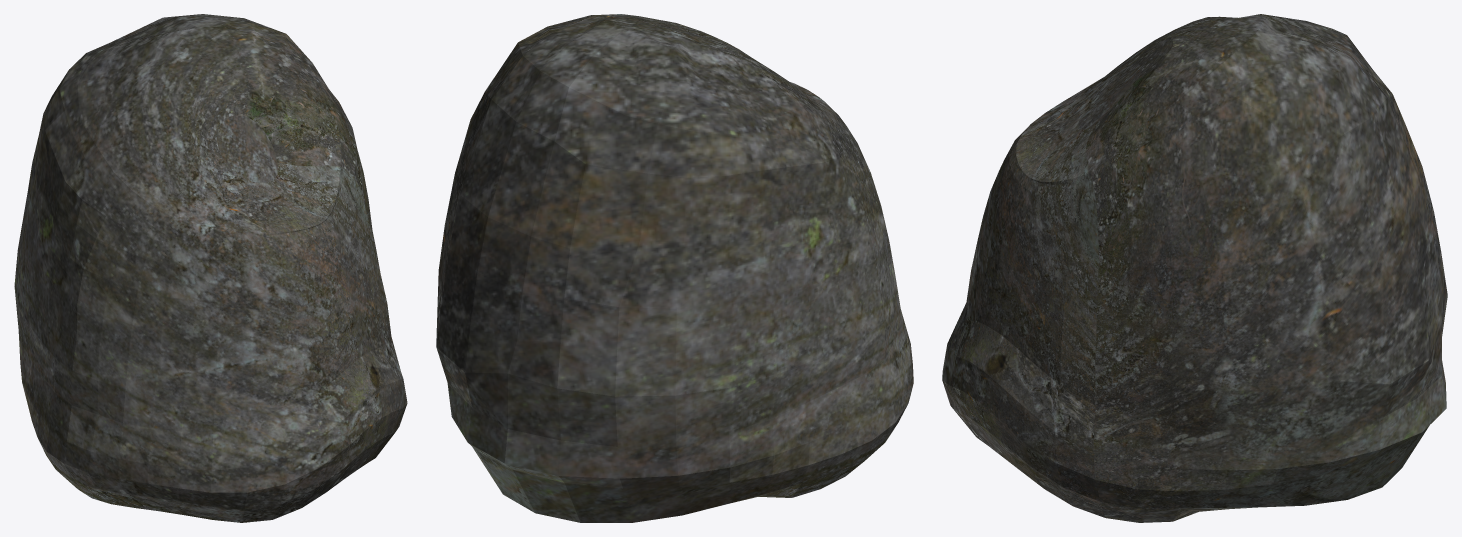
Rendered from Pedra.fbx.
The picture shows the model from 3 angles, left to right: view 1: azimuth 30°, elevation 25°; view 2: azimuth 150°, elevation 25°; view 3: azimuth 270°, elevation 25°; orthographic projection. The views are drawn at different scales.
Parts seen in each view (by area): view 1: Sphere; view 2: Sphere; view 3: Sphere.
Boxes of the visible parts, bbox=[...] form: Sphere: bbox=[14, 14, 407, 522]; Sphere: bbox=[436, 14, 913, 522]; Sphere: bbox=[942, 14, 1447, 522].
Size of the model in its own units: 173 by 209 by 208.
Materials: 1 (1 with a texture image).
